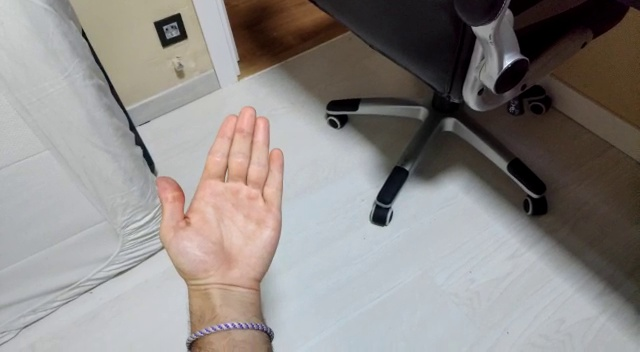Palm: (153, 94, 291, 301)
